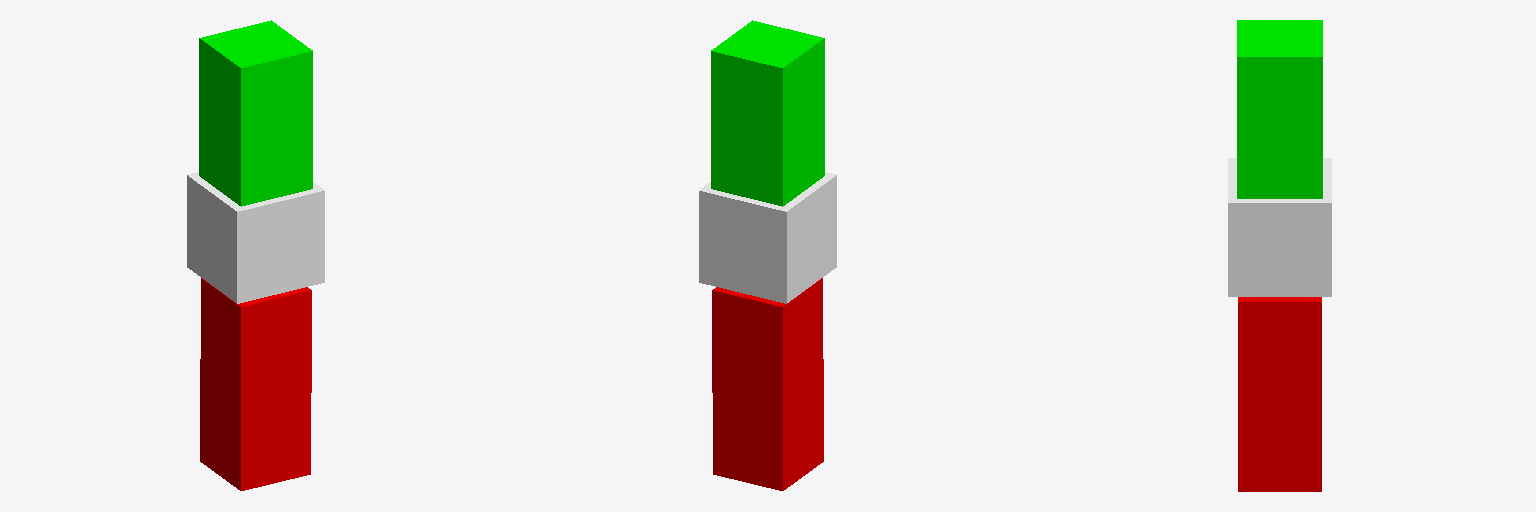
robot.urdf — pendulum_veritcal:
<robot name="pendulum_veritcal">

    <link name="base_link">
        <inertial>
            <origin rpy="0 0 0" xyz="0 0 0"/>
            <mass value="100.0"/>
            <inertia ixx="1" ixy="0" ixz="0" iyy="1" iyz="0" izz="1"/>
        </inertial>
        <visual>
            <origin rpy="0 0 0" xyz="0 0 0"/>
            <geometry>
                <box size="0.5 0.5 0.5"/>
            </geometry>
            <material>
                <color rgba="1 1 1 1"/>
            </material>
        </visual>
        <collision>
            <origin rpy="0 0 0" xyz="0 0 0"/>
            <geometry>
                <box size="0.5 0.5 0.5"/>
            </geometry>
        </collision>
        <spear>
            <simulate_physics value="false"/>
        </spear>
    </link>

    <link name="link_0">
        <inertial>
            <origin rpy="0 0 0" xyz="1.0 0 0"/>
            <mass value="0.1"/>
            <inertia ixx="1" ixy="0" ixz="0" iyy="1" iyz="0" izz="1"/>
        </inertial>
        <visual>
            <origin rpy="0 0 0" xyz="0.0 0 0"/>
            <geometry>
                <box size="1 0.40 0.40"/>
            </geometry>
            <material>
                <color rgba="1 0 0 1"/>
            </material>
        </visual>
        <collision>
            <origin rpy="0 0 0" xyz="0.0 0 0"/>
            <geometry>
                <box size="1 0.40 0.40"/>
            </geometry>
        </collision>
        <spear>
            <simulate_physics value="true"/>
        </spear>
    </link>
    <joint name="joint_0" type="revolute">
        <origin rpy="0 -1.57 0" xyz="0 0 -0.8"/>
        <parent link="base_link"/>
        <child link="link_0"/>
        <axis xyz="0 0 1"/>
        <limit lower="-0.78" upper="0.78" effort="0.0" velocity="0.0"/>
        <spear>
            <dynamics control_type="torque" parent_dominates="true"/>
        </spear>
    </joint>

    <link name="link_1">
        <inertial>
            <origin rpy="0 0 0" xyz="0.3 0 0"/>
            <mass value="0.1"/>
            <inertia ixx="1" ixy="0" ixz="0" iyy="1" iyz="0" izz="1"/>
        </inertial>
        <visual>
            <origin rpy="0 0 0" xyz="0.5 0 0"/>
            <geometry>
                <box size="1 0.41 0.41"/>
            </geometry>
            <material>
                <color rgba="0 1 0 1"/>
            </material>
        </visual>
        <collision>
            <origin rpy="0 0 0" xyz="0.5 0 0"/>
            <geometry>
                <box size="1 0.41 0.41"/>
            </geometry>
        </collision>
        <spear>
            <simulate_physics value="true"/>
        </spear>        
    </link>
    <joint name="joint_1" type="fixed">
        <origin rpy="0 0 0" xyz="0.8 0 0"/>
        <parent link="link_0"/>
        <child link="link_1"/>
        <axis xyz="0 1 0"/>
        <limit lower="-0.78" upper="0.78" effort="0.0" velocity="0.0"/>
        <dynamics damping="0.001"/>
    </joint>

</robot>

--- What the picture shows (computed from the rendered views, not written in the file) ---
Views: 3 orthographic renders of the robot side by side, from view 1: azimuth 30°, elevation 25°; view 2: azimuth 150°, elevation 25°; view 3: azimuth 270°, elevation 25°.
Model pendulum_veritcal with 3 links and 2 joints (1 revolute, 1 fixed), rooted at base_link, posed every joint at zero.
Visible links, largest first — view 1: link_0, link_1, base_link; view 2: link_0, link_1, base_link; view 3: link_0, link_1, base_link.
Link boxes in pixels (x1=…): link_0: x1=200, y1=278, x2=311, y2=490; link_1: x1=199, y1=20, x2=312, y2=206; base_link: x1=187, y1=172, x2=324, y2=303; link_0: x1=712, y1=278, x2=823, y2=490; link_1: x1=711, y1=20, x2=824, y2=206; base_link: x1=699, y1=172, x2=836, y2=303; link_0: x1=1238, y1=297, x2=1321, y2=491; link_1: x1=1237, y1=20, x2=1322, y2=198; base_link: x1=1228, y1=158, x2=1331, y2=296.
Bounding box of the posed robot: 0.5 × 0.5 × 2.3 m (x, y, z).
Geometry: primitives only (box / cylinder / sphere), no mesh files.